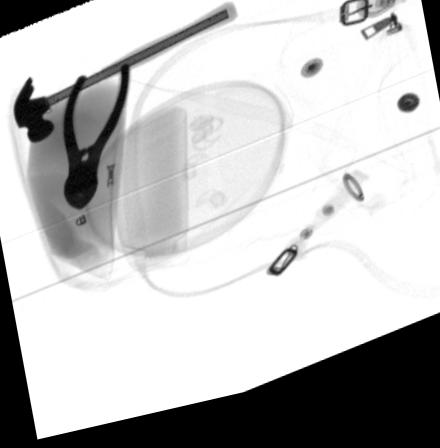Hammer: (12, 11, 238, 145)
Pliers: (61, 67, 130, 214)
